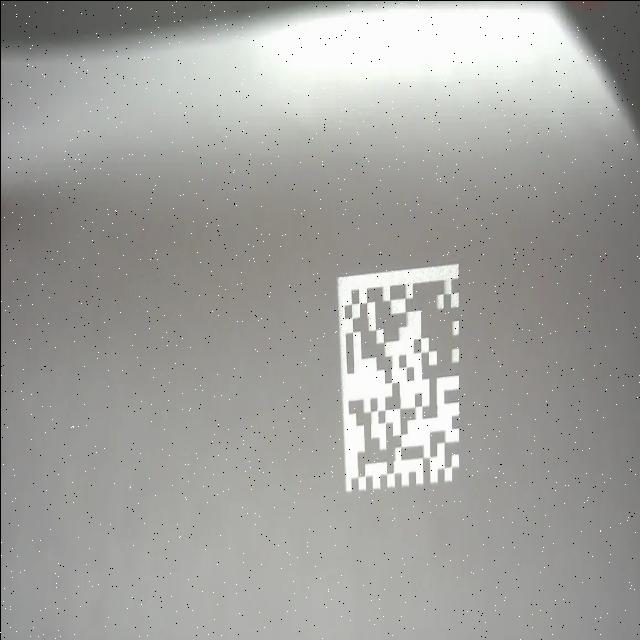datamatrix: (328, 240, 469, 506)
